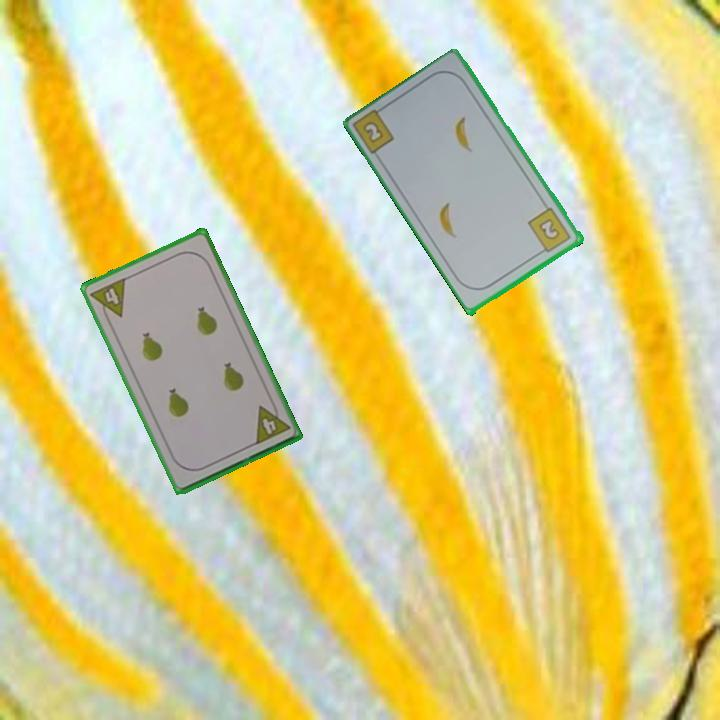2b: (525, 204, 574, 257), (360, 118, 387, 146)
4p: (86, 274, 129, 325), (251, 398, 293, 448)
